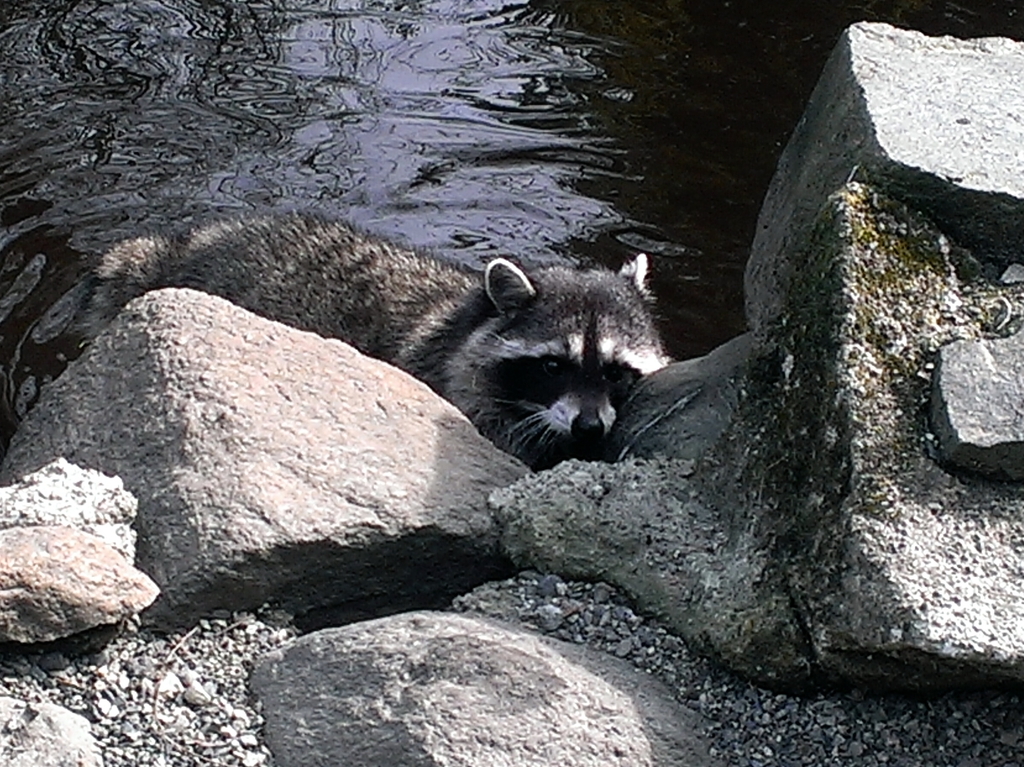raccoon: (78, 207, 671, 456)
